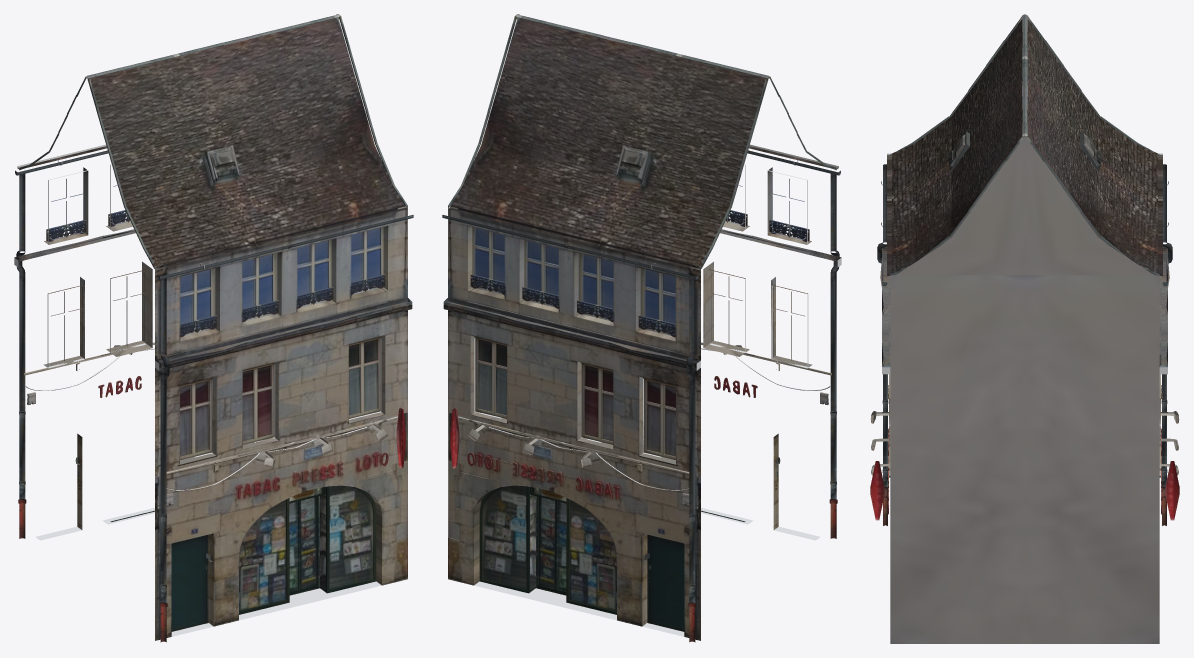
The model's file is immeuble_besancon_tabac.glb.
3 renders of one model, left to right at view 1: azimuth 30°, elevation 25°; view 2: azimuth 150°, elevation 25°; view 3: azimuth 270°, elevation 25°, orthographic.
Parts seen in each view (by area): view 1: immeuble_besancon_tabac; view 2: immeuble_besancon_tabac; view 3: immeuble_besancon_tabac.
Part boxes in pixels (bbox=[...]): immeuble_besancon_tabac: bbox=[14, 14, 413, 642]; immeuble_besancon_tabac: bbox=[442, 14, 841, 642]; immeuble_besancon_tabac: bbox=[870, 14, 1179, 643].
Bounding box in the file's own units: 7.51 × 14.57 × 8.02.
6 materials, 6 textured.
